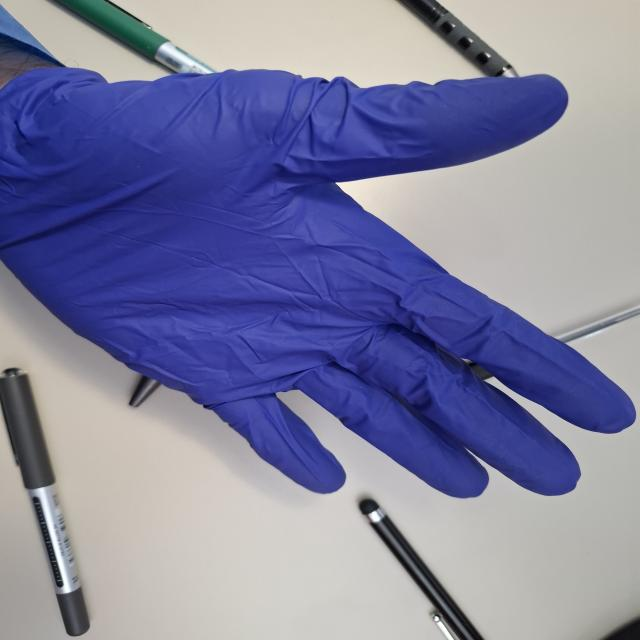glove_on: (0, 60, 639, 501)
